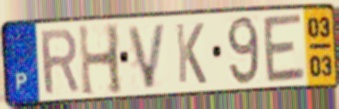9: (224, 15, 261, 88)
E: (261, 11, 308, 86)
H: (76, 22, 126, 99)
K: (174, 21, 209, 86)
R: (37, 26, 82, 98)
V: (125, 20, 169, 91)
